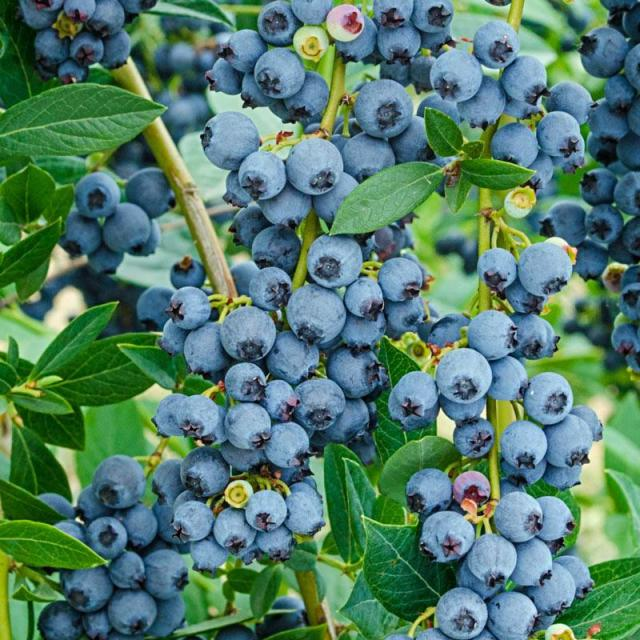BlueBerry - v1: (352, 75, 418, 142), (284, 283, 350, 349), (197, 106, 263, 170), (283, 132, 347, 198), (431, 342, 497, 406), (213, 301, 281, 363), (303, 232, 367, 294), (418, 508, 482, 570), (322, 341, 386, 402), (491, 485, 552, 549), (516, 235, 574, 302), (175, 442, 240, 500), (265, 326, 327, 386), (136, 544, 198, 604), (431, 579, 493, 639), (542, 406, 598, 471), (464, 308, 526, 366), (182, 316, 240, 378), (520, 368, 578, 430), (90, 452, 148, 514), (575, 26, 634, 86), (429, 43, 486, 105), (233, 146, 291, 206), (292, 374, 350, 434), (498, 49, 556, 106), (341, 128, 402, 182), (454, 74, 512, 130), (105, 580, 161, 638), (250, 46, 308, 102), (481, 586, 541, 640), (403, 463, 457, 522), (258, 418, 314, 474), (247, 220, 304, 275), (59, 560, 116, 615), (464, 531, 522, 585), (277, 482, 331, 538), (128, 164, 180, 222), (488, 117, 542, 172), (499, 414, 553, 469), (535, 194, 591, 247), (375, 252, 429, 306), (100, 201, 153, 256), (71, 169, 123, 224), (222, 398, 276, 450), (207, 502, 261, 554), (130, 278, 180, 334), (540, 78, 598, 126), (169, 488, 217, 546), (530, 561, 578, 619), (534, 490, 580, 550), (469, 18, 522, 70), (55, 210, 106, 264), (219, 25, 272, 76), (391, 114, 441, 168), (512, 312, 562, 366), (254, 184, 312, 230), (282, 70, 332, 122), (534, 107, 582, 161), (248, 0, 302, 48), (474, 244, 522, 298), (337, 309, 390, 357), (510, 536, 556, 591), (224, 198, 274, 248), (82, 513, 133, 562), (335, 12, 383, 64), (174, 390, 223, 440), (166, 284, 215, 333), (584, 96, 634, 144), (242, 485, 290, 535), (445, 466, 494, 514), (556, 548, 598, 604), (34, 598, 90, 640), (396, 366, 443, 416), (142, 388, 188, 438), (114, 503, 160, 553), (149, 446, 190, 502), (342, 272, 387, 323), (266, 593, 320, 635), (258, 375, 304, 424), (489, 357, 533, 408), (247, 265, 294, 312), (580, 199, 625, 247), (570, 236, 614, 285), (94, 23, 135, 75), (225, 358, 271, 404), (319, 3, 366, 48), (537, 456, 587, 496), (106, 544, 149, 590), (165, 252, 214, 292), (31, 21, 74, 66), (254, 522, 300, 564), (158, 314, 198, 360), (377, 23, 424, 62), (80, 242, 128, 280), (219, 164, 256, 213), (214, 439, 263, 476), (578, 164, 620, 207), (385, 292, 429, 333), (290, 24, 332, 66), (410, 0, 458, 36), (567, 398, 607, 441), (523, 151, 561, 196), (498, 456, 552, 487), (418, 92, 463, 129), (190, 539, 236, 575), (87, 0, 127, 41), (205, 57, 246, 97), (606, 315, 640, 361), (55, 54, 94, 94), (614, 164, 640, 222), (605, 72, 636, 120), (502, 92, 548, 124), (17, 0, 63, 32), (68, 30, 104, 70), (32, 491, 78, 522), (288, 0, 338, 28), (369, 0, 417, 28), (551, 140, 588, 176), (78, 603, 114, 640), (78, 482, 110, 523), (507, 282, 547, 314), (410, 50, 442, 90), (52, 516, 90, 546), (210, 620, 265, 640), (378, 58, 414, 88), (624, 34, 640, 100), (589, 130, 618, 165), (617, 125, 640, 169), (620, 212, 640, 262), (615, 282, 640, 321), (59, 0, 101, 23), (120, 0, 162, 22), (591, 0, 639, 17), (619, 12, 640, 50), (619, 262, 640, 286), (326, 4, 336, 5)
